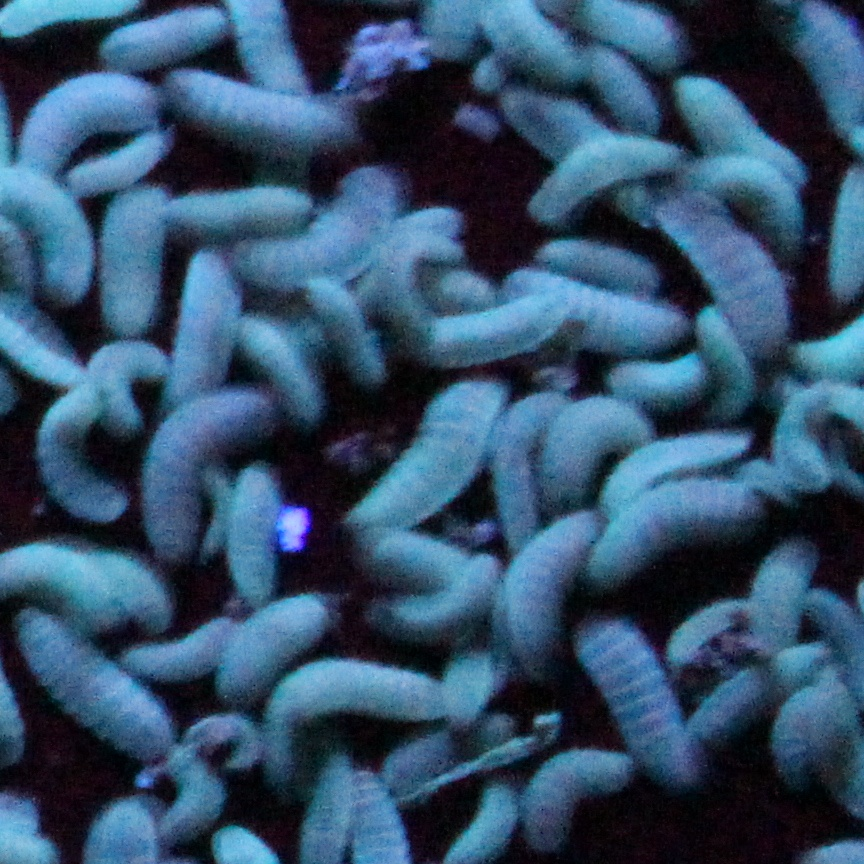larve: (353, 381, 493, 523), (33, 629, 152, 755), (181, 78, 355, 163), (596, 626, 689, 778), (600, 484, 750, 578), (509, 533, 576, 683), (289, 663, 444, 725), (27, 185, 96, 315), (541, 133, 674, 200), (37, 407, 115, 515), (143, 422, 201, 562), (103, 202, 164, 332), (29, 78, 157, 133), (231, 463, 279, 601), (177, 256, 229, 382), (318, 172, 386, 266), (813, 691, 864, 811), (4, 546, 91, 615), (534, 231, 647, 282), (543, 402, 599, 502), (681, 228, 764, 295), (604, 433, 744, 472), (500, 392, 537, 538), (753, 538, 804, 643), (436, 303, 554, 348), (683, 85, 776, 142), (234, 605, 286, 702), (361, 539, 461, 588), (177, 191, 297, 229), (101, 26, 213, 66), (479, 11, 560, 66), (56, 141, 166, 181), (249, 316, 309, 389), (716, 159, 794, 215), (764, 699, 811, 789), (616, 359, 704, 405), (529, 765, 580, 834), (333, 283, 371, 375), (103, 559, 163, 615), (150, 636, 231, 675), (377, 601, 477, 632), (779, 421, 826, 486), (596, 81, 657, 123), (319, 758, 344, 855), (454, 649, 487, 719)
